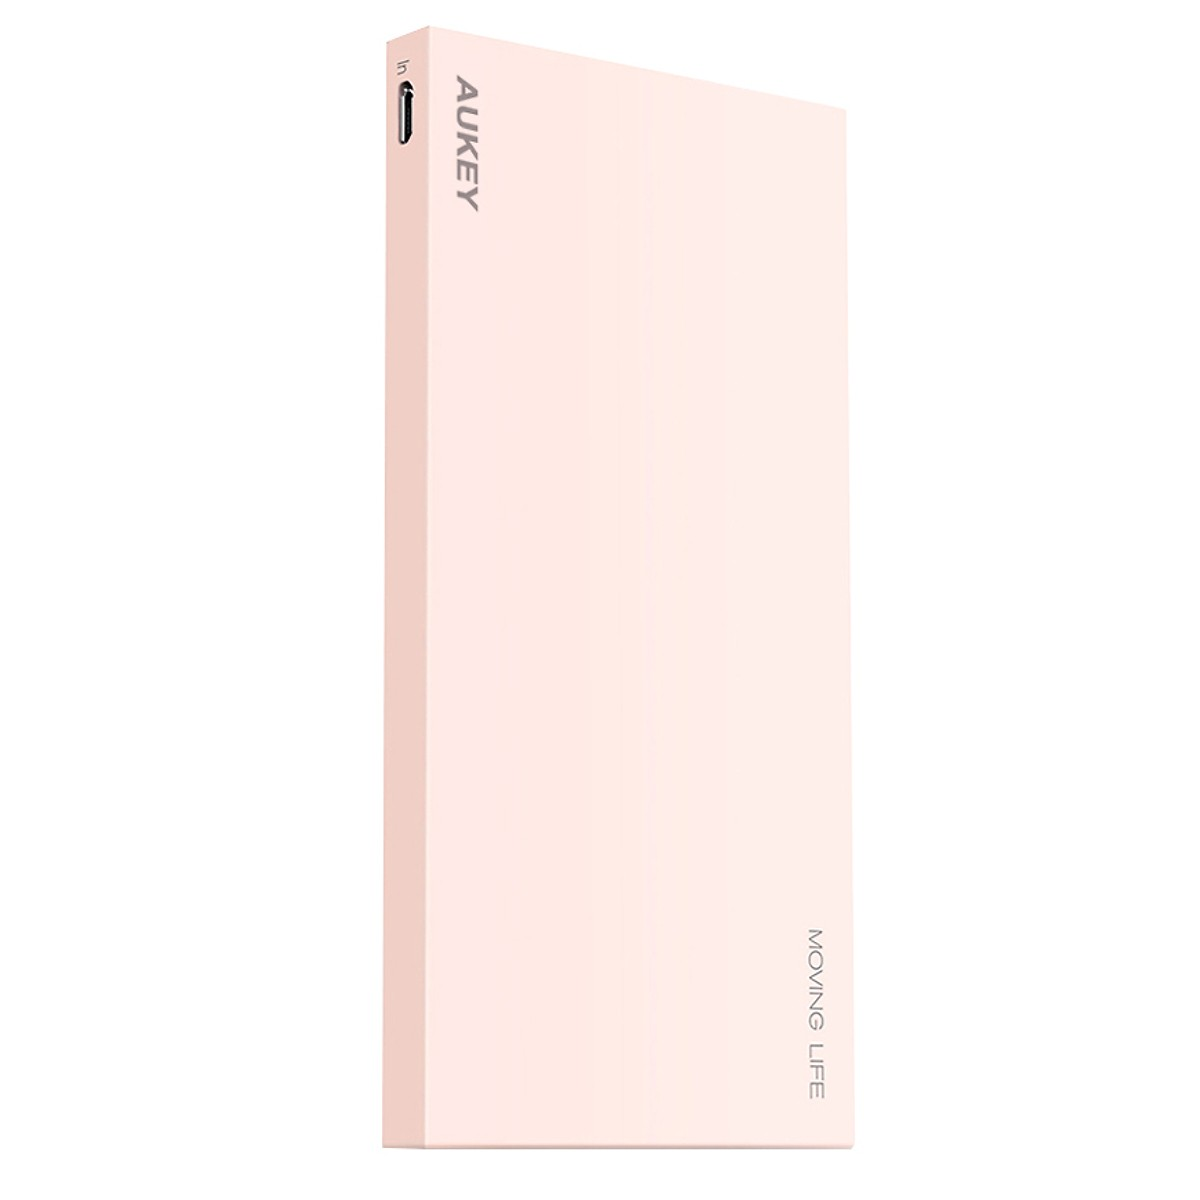Aukey: (363, 38, 584, 249)
